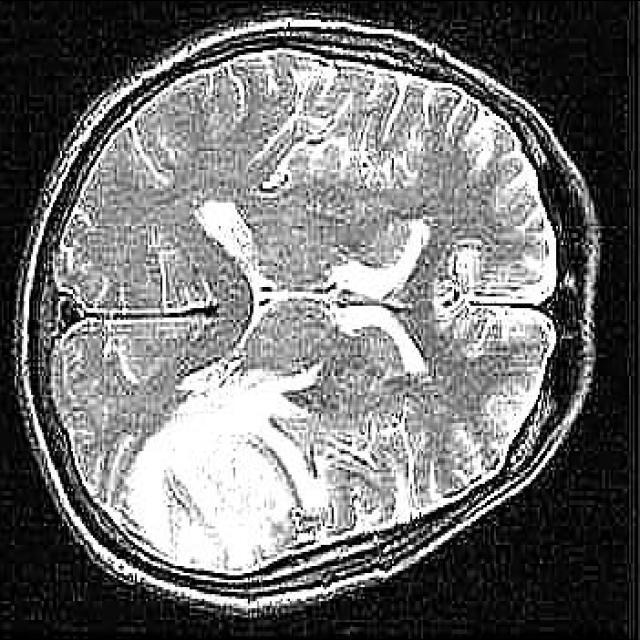tumor: (106, 370, 326, 572)
